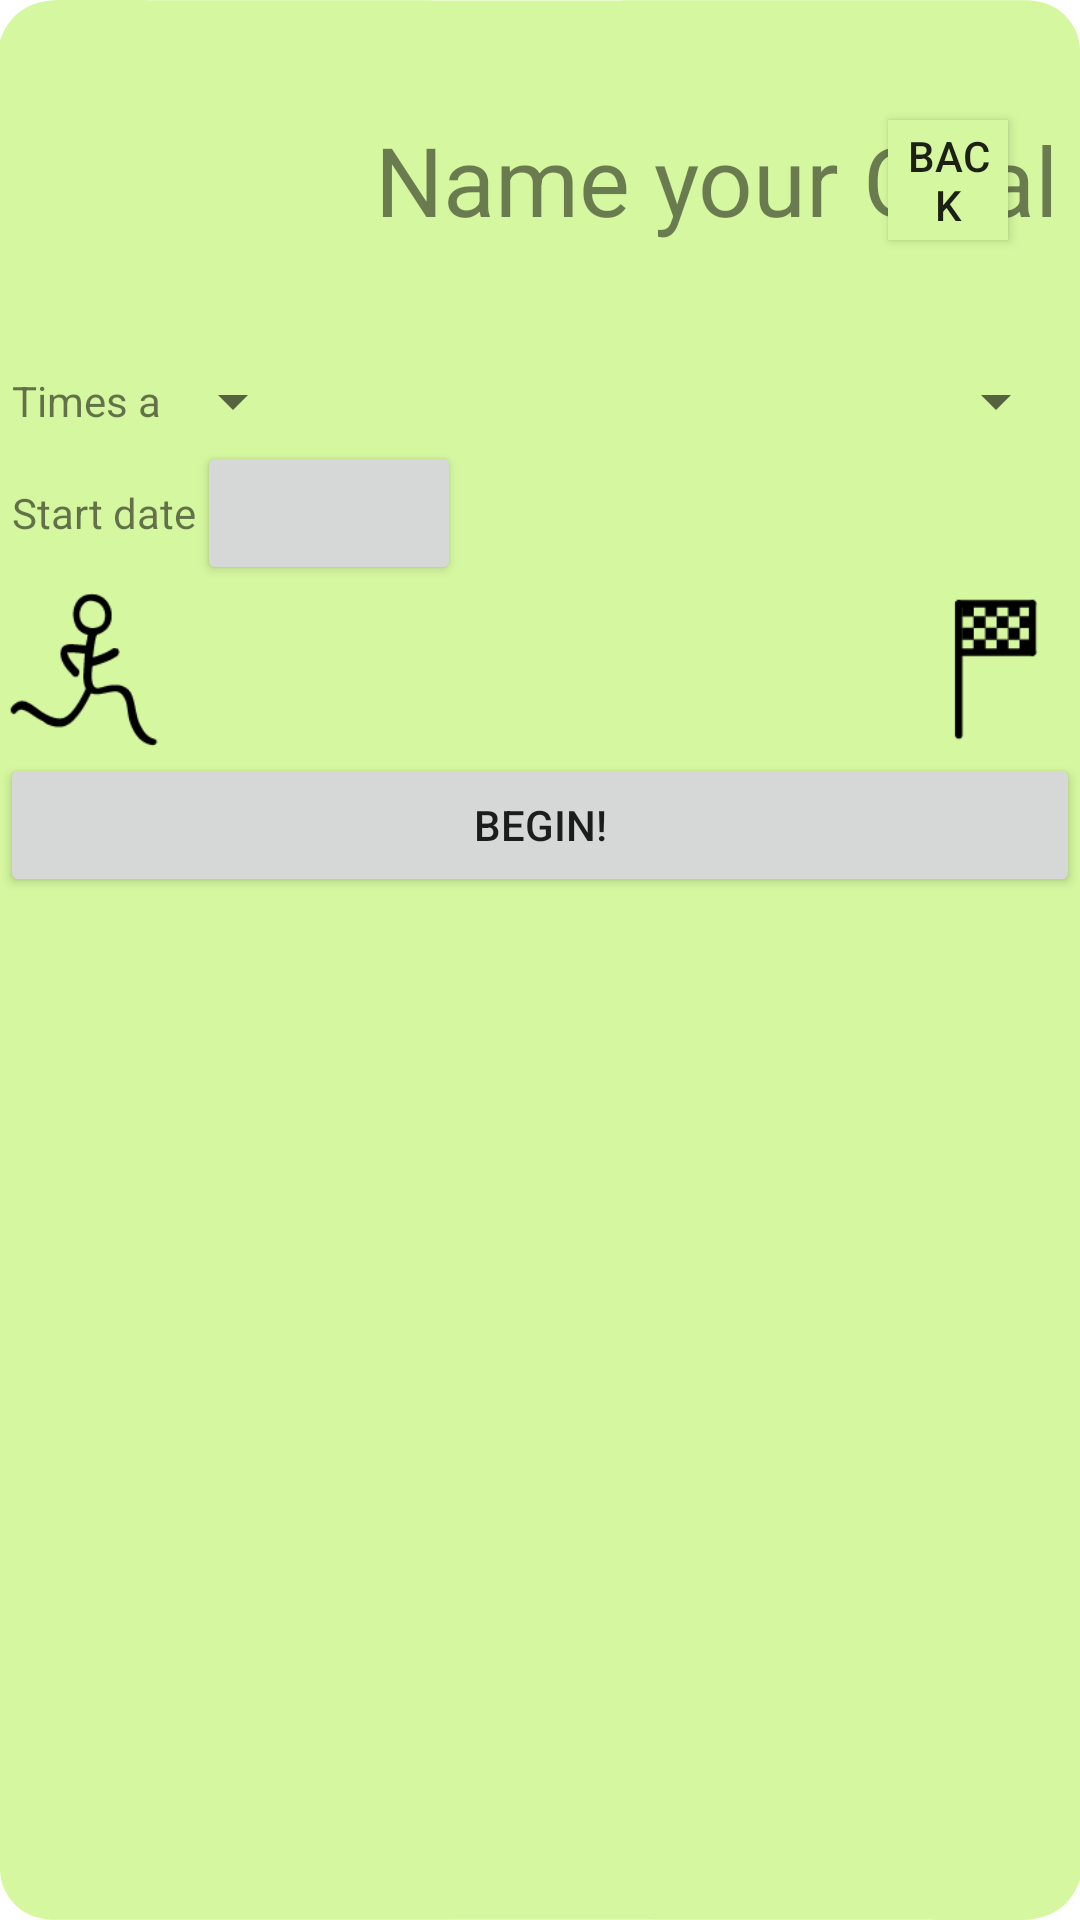

Where to tap for icons on this 1080×1920 app screen, as (x,y):
finish line: (995,669)
runner: (84,669)
